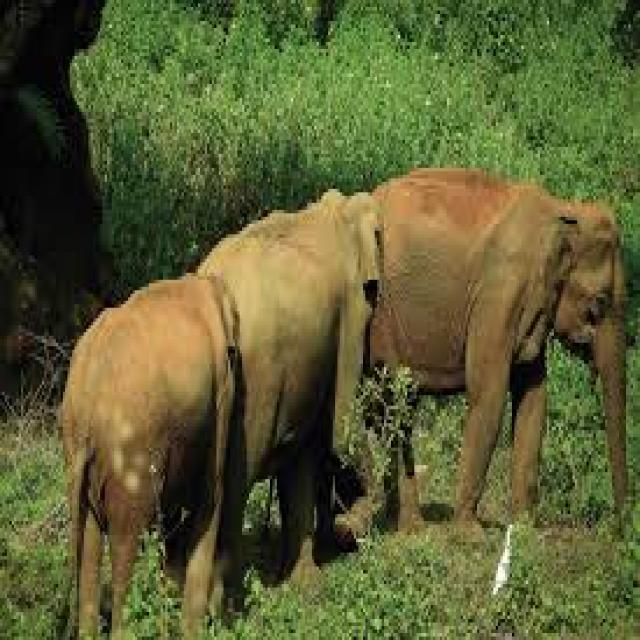Elephant: (373, 151, 633, 553), (51, 256, 237, 640), (210, 177, 390, 556)
